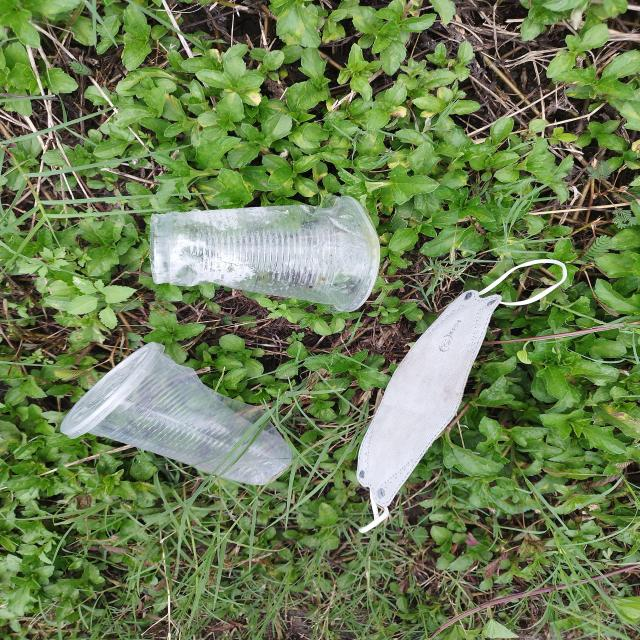mask: (356, 259, 568, 533)
plastic glass: (60, 342, 293, 486), (150, 194, 380, 314)
